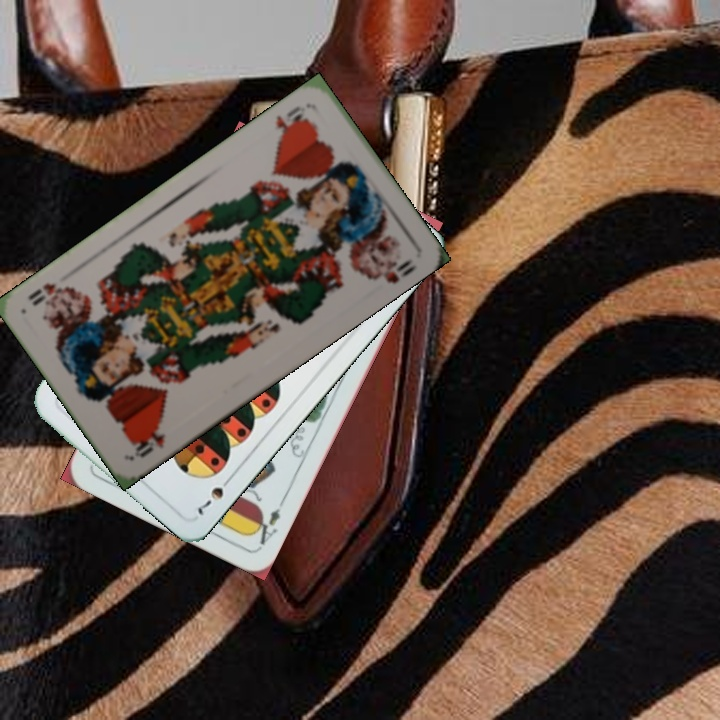EA: (247, 494, 287, 548)
HO: (271, 102, 310, 145), (129, 423, 169, 460)
S7: (193, 471, 236, 518)
